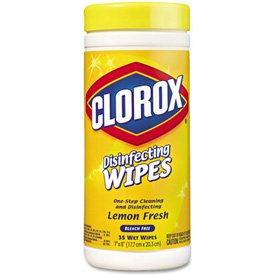Wipes: (81, 2, 196, 273)
